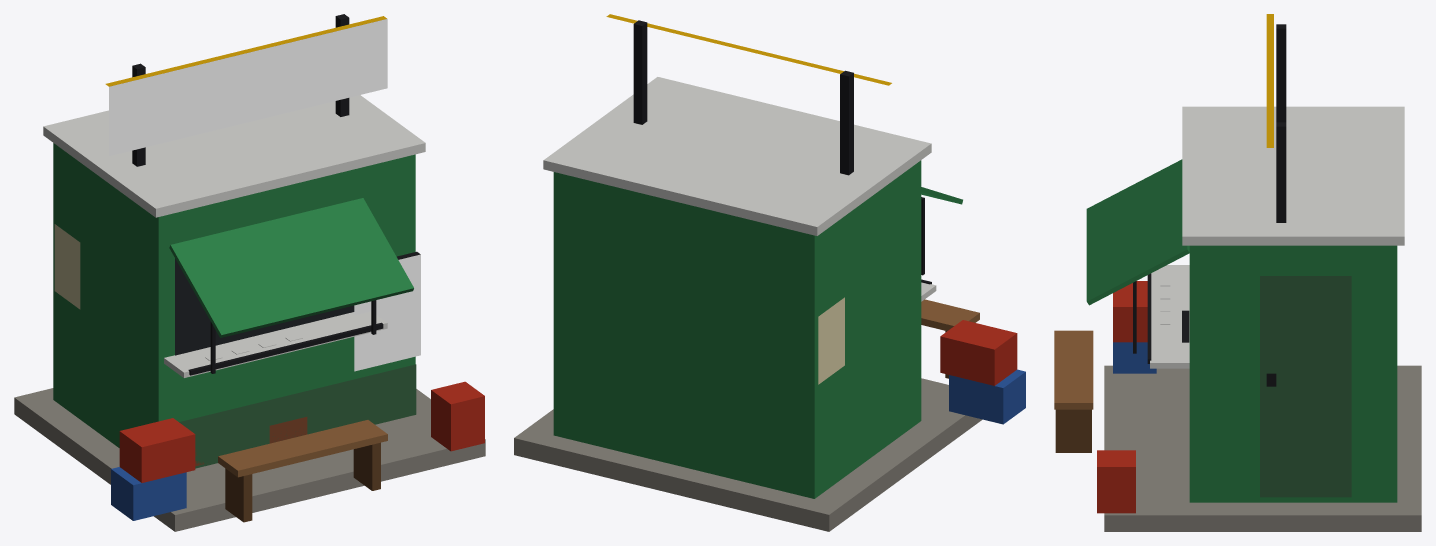
Rendered from shop_lotto-kiosk.glb.
3 renders of one model, left to right at view 1: azimuth 30°, elevation 25°; view 2: azimuth 150°, elevation 25°; view 3: azimuth 270°, elevation 25°, orthographic. The views are drawn at different scales.
Parts seen in each view (by area): view 1: body; view 2: body; view 3: body.
Boxes of the visible parts, x1,y1,x2,y2 form: body: (14,14,485,531); body: (514,14,1025,531); body: (1054,14,1421,531).
Size of the model in its own units: 3.25 by 3.45 by 3.01.
